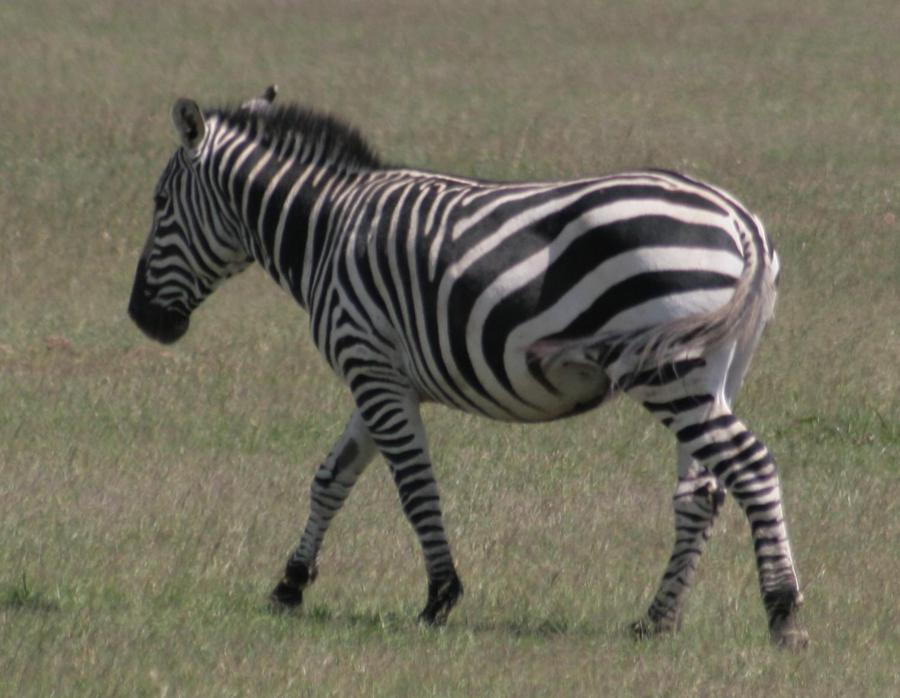zebra_plains: (276, 138, 746, 463)
